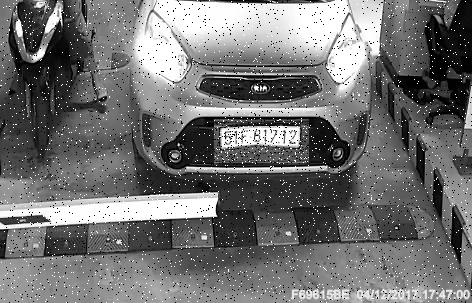License-plate: (215, 121, 310, 166)
